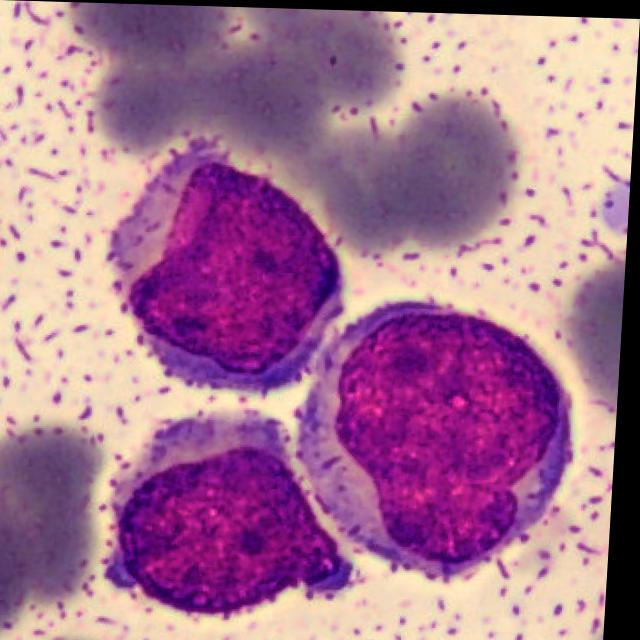Mieloblasto: (299, 301, 578, 575), (118, 150, 347, 385), (110, 415, 362, 618)
